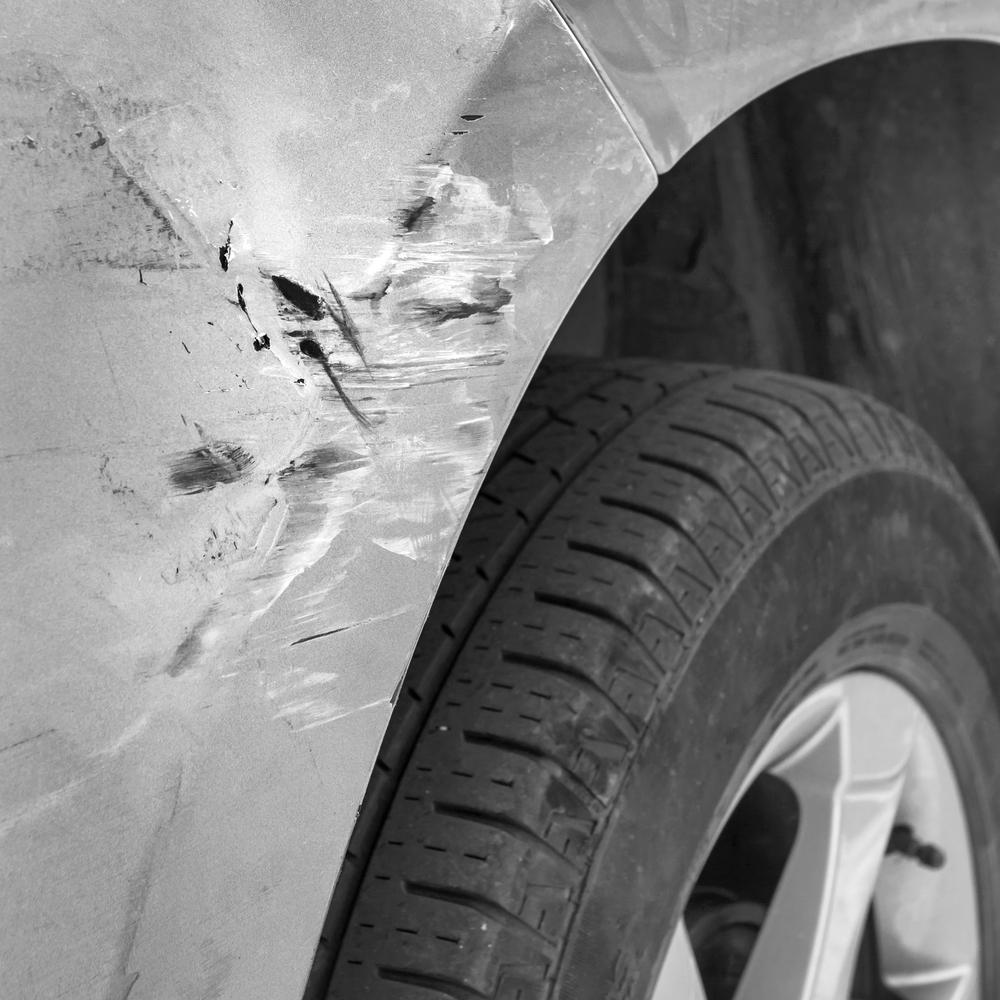scratch: (92, 94, 551, 733)
